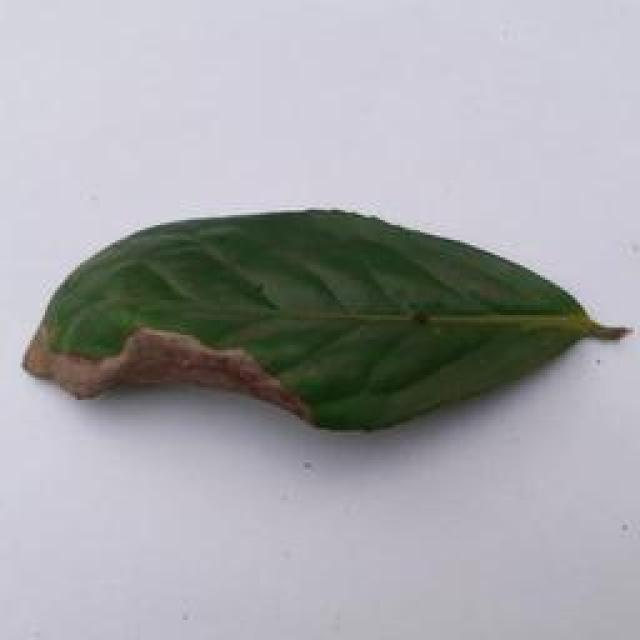Brown Blight: (20, 198, 640, 430)
